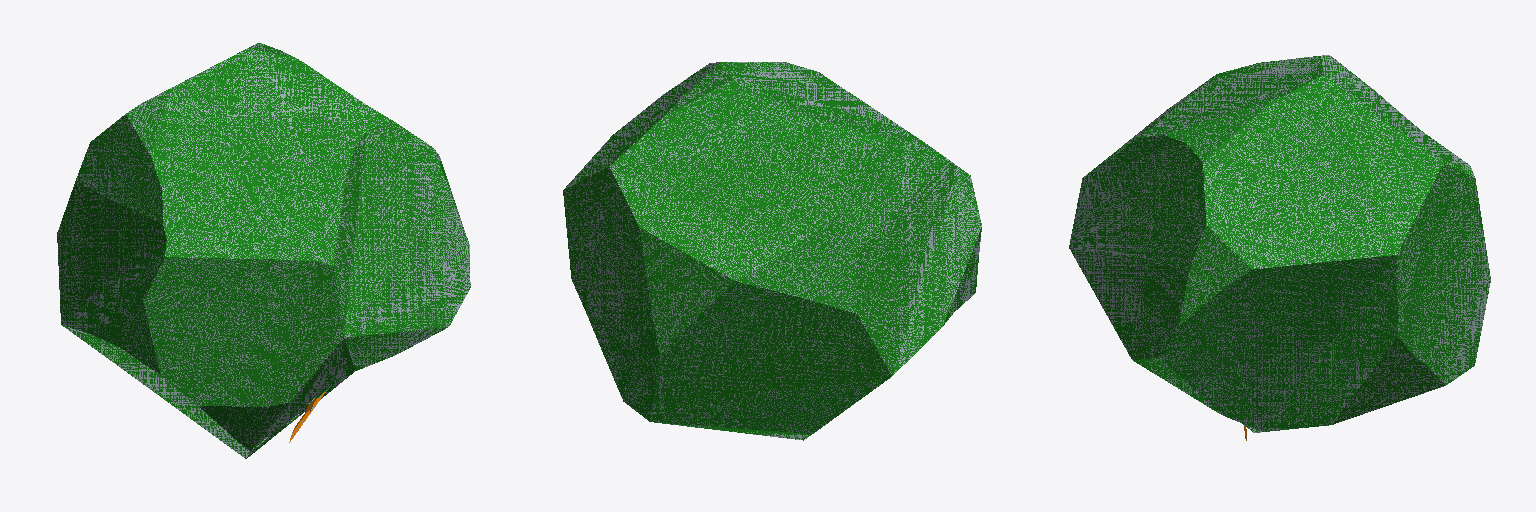
File: CanadianMaple_leaves(green).obj
3 renders of one model, left to right at view 1: azimuth 30°, elevation 25°; view 2: azimuth 150°, elevation 25°; view 3: azimuth 270°, elevation 25°, orthographic.
Parts seen in each view (by area): view 1: Mesh1 Component_9_1 Model; view 2: Mesh1 Component_9_1 Model; view 3: Mesh1 Component_9_1 Model.
Boxes of the visible parts, <box> form: Mesh1 Component_9_1 Model: <box>57,43,470,458</box>; Mesh1 Component_9_1 Model: <box>563,62,981,440</box>; Mesh1 Component_9_1 Model: <box>1069,55,1490,440</box>.
Size of the model in its own units: 7208 by 7652 by 7772.